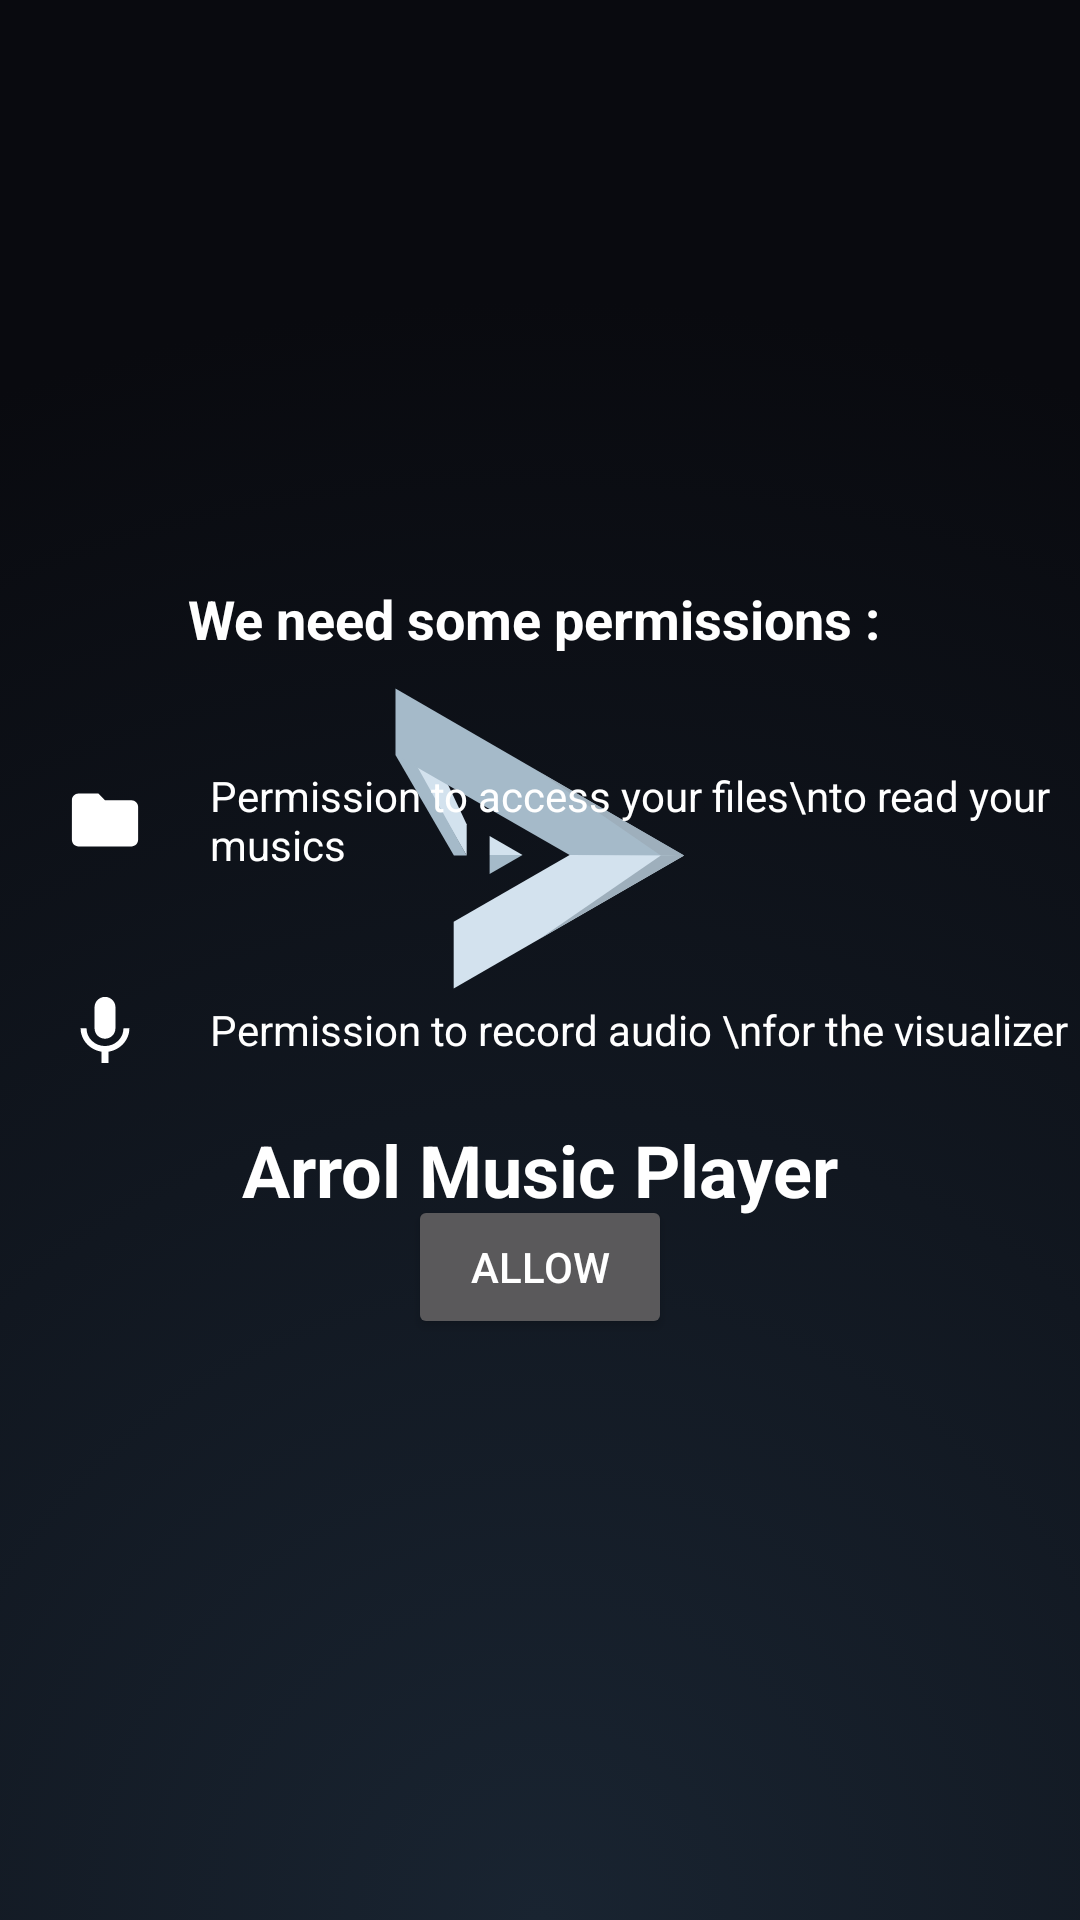

Where to tap for icons on this 1080 × 1920 app screen, as point (x, y):
appiconrot: point (540, 838)
mic: point (105, 1030)
